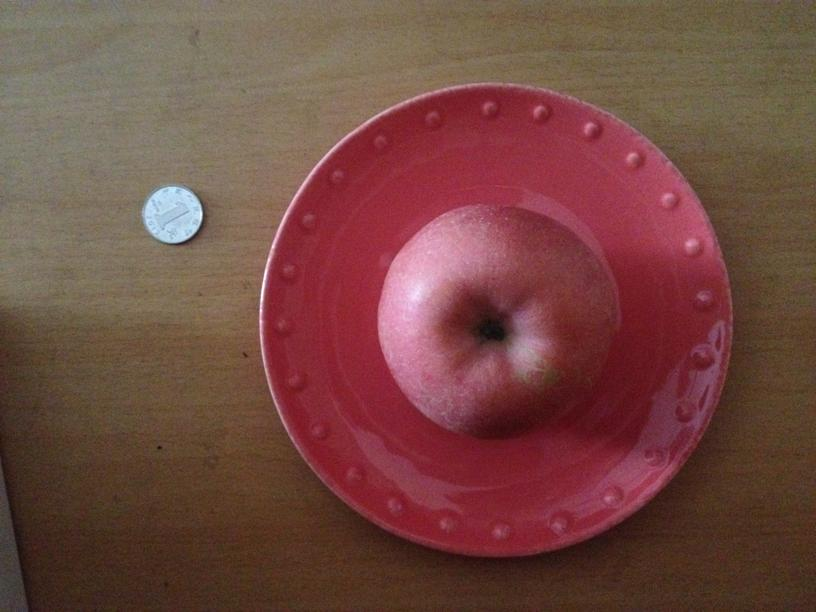apple: (375, 205, 621, 441)
coin: (141, 185, 204, 244)
